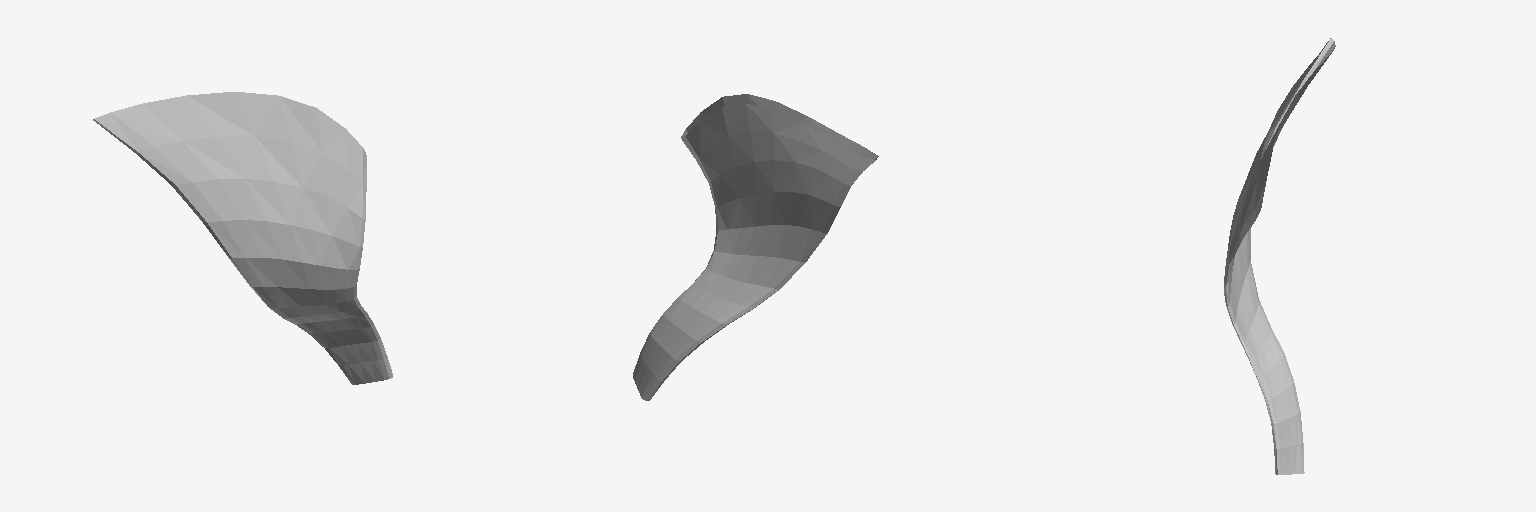
File: depressor_supercilii_right.obj
3 views of the same model, side by side, from view 1: azimuth 30°, elevation 25°; view 2: azimuth 150°, elevation 25°; view 3: azimuth 270°, elevation 25° (orthographic).
Visible parts, largest first — view 1: Depressor_Supercilii_Muscle_Right; view 2: Depressor_Supercilii_Muscle_Right; view 3: Depressor_Supercilii_Muscle_Right.
Part boxes in pixels (bbox=[...]): Depressor_Supercilii_Muscle_Right: bbox=[93, 92, 392, 384]; Depressor_Supercilii_Muscle_Right: bbox=[633, 94, 878, 400]; Depressor_Supercilii_Muscle_Right: bbox=[1224, 38, 1335, 474].
Bounding box in the file's own units: 0.2662 × 0.3047 × 0.0945.